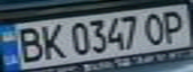0: (66, 19, 90, 56)
3: (87, 17, 109, 54)
4: (106, 15, 127, 52)
7: (121, 12, 145, 50)
B: (9, 25, 48, 63)
K: (36, 21, 66, 61)
O: (139, 10, 172, 46)
P: (157, 7, 193, 44)
